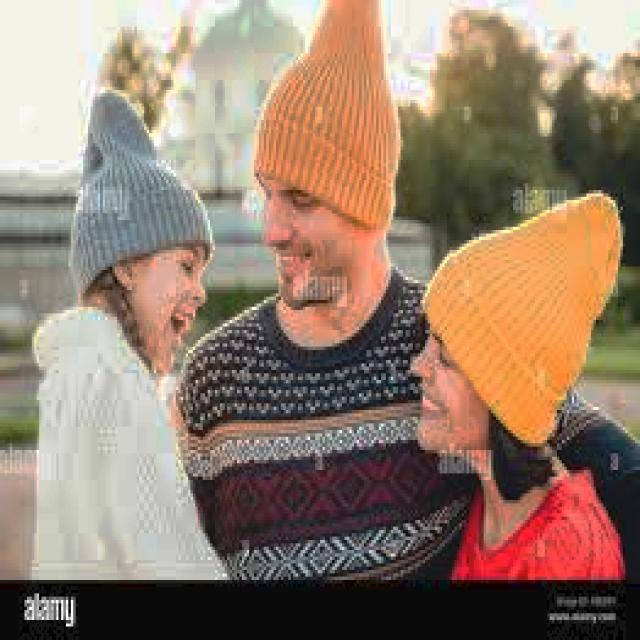TOPI: (418, 180, 623, 443), (251, 0, 400, 233), (61, 76, 215, 296)
